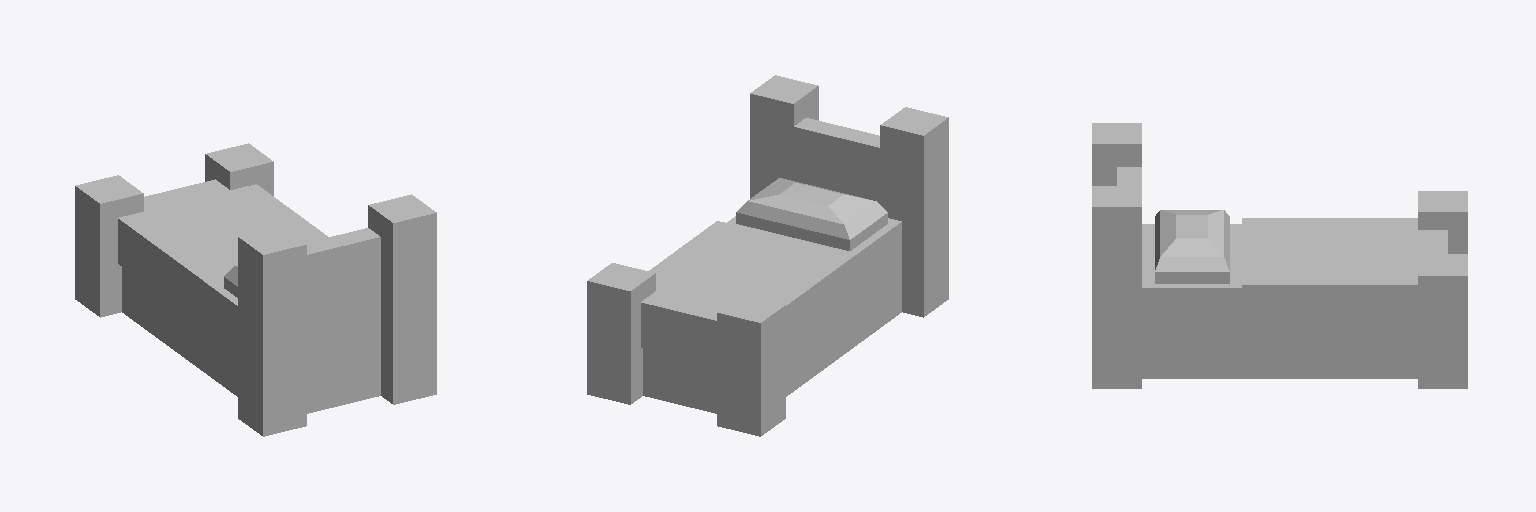
Rendered from bed_single_tempestdesert.obj.
The picture shows the model from 3 angles: view 1: azimuth 30°, elevation 25°; view 2: azimuth 150°, elevation 25°; view 3: azimuth 270°, elevation 25°; orthographic projection.
Visible parts, largest first — view 1: bed_tempest_desert; view 2: bed_tempest_desert; view 3: bed_tempest_desert.
Part boxes in pixels (bbox=[...]): bed_tempest_desert: bbox=[75, 143, 436, 436]; bed_tempest_desert: bbox=[587, 75, 948, 436]; bed_tempest_desert: bbox=[1092, 123, 1467, 388].
Size of the model in its own units: 0.8 by 0.8 by 1.5.